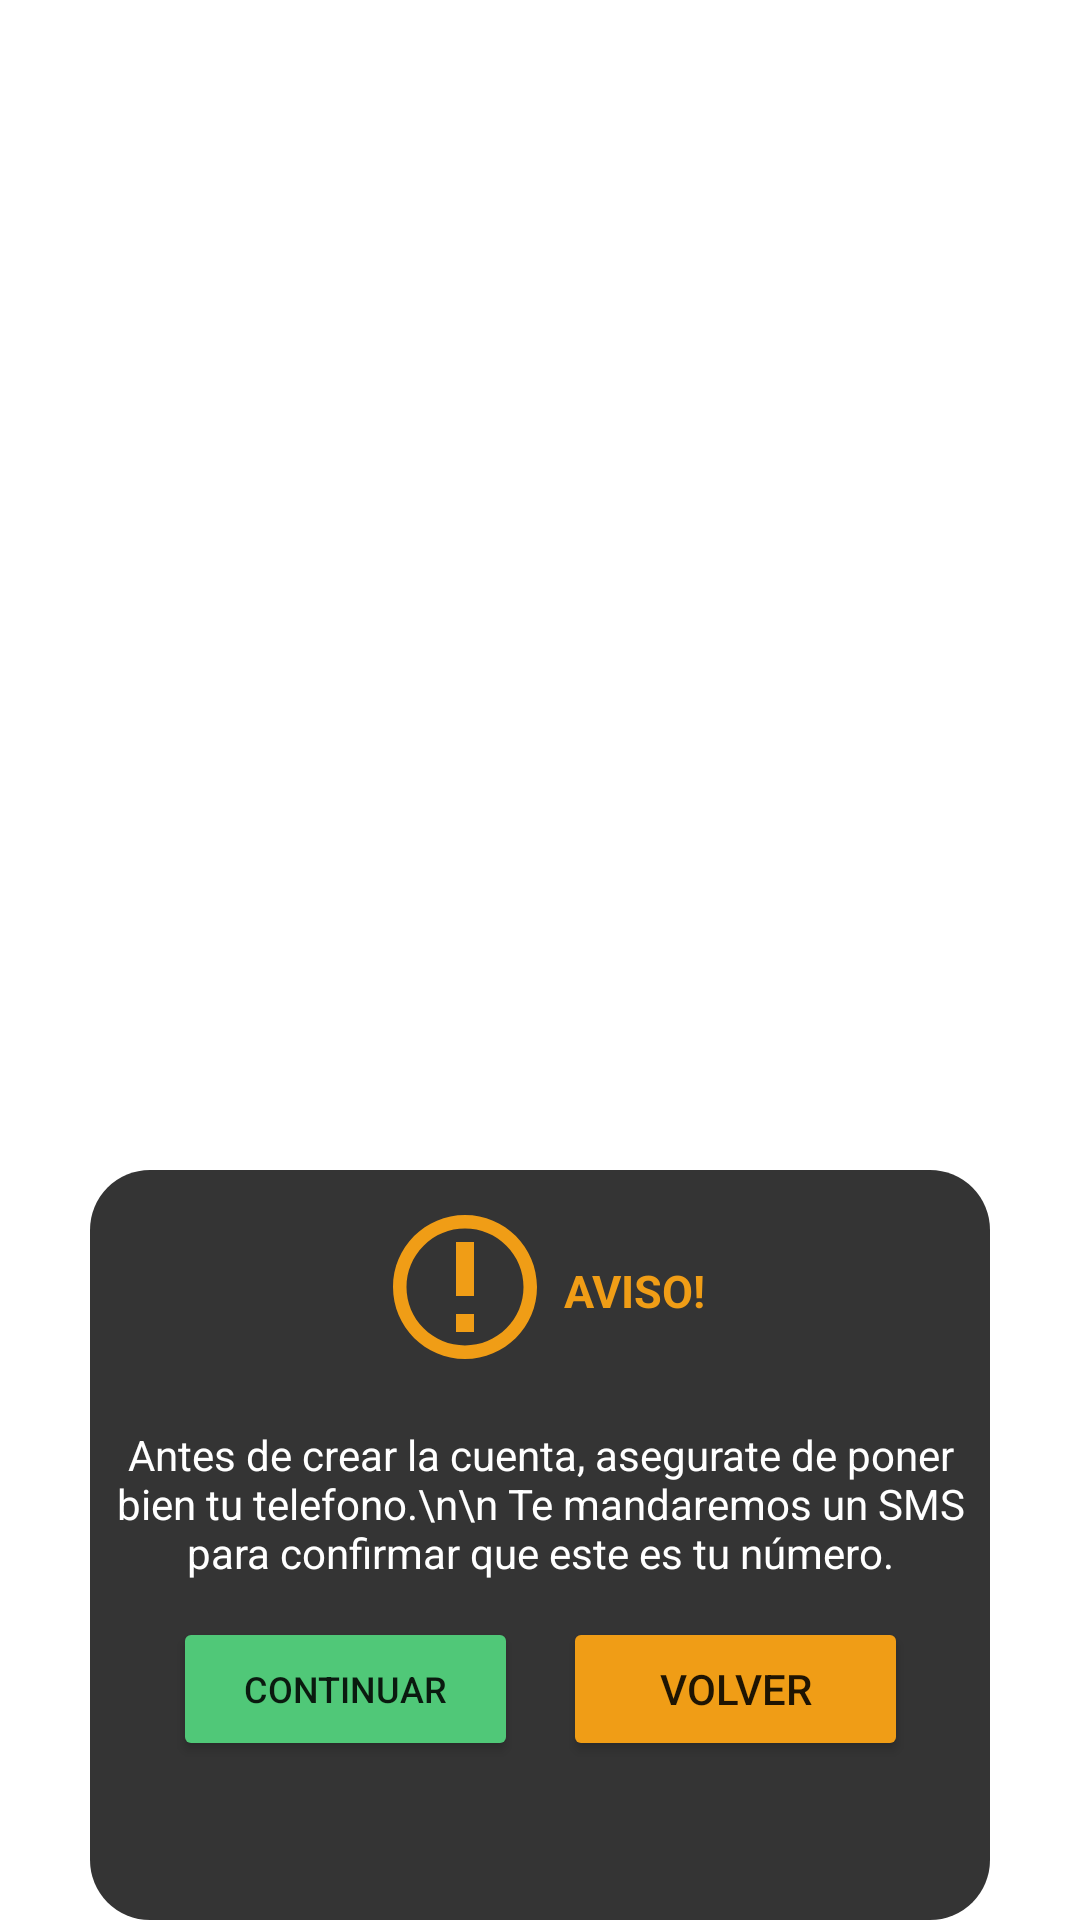

Icon bounding boxes for this 1080*1920 phone screenshot, format [x1,y1,x2,y2]:
warning: [393,1215,537,1359]
